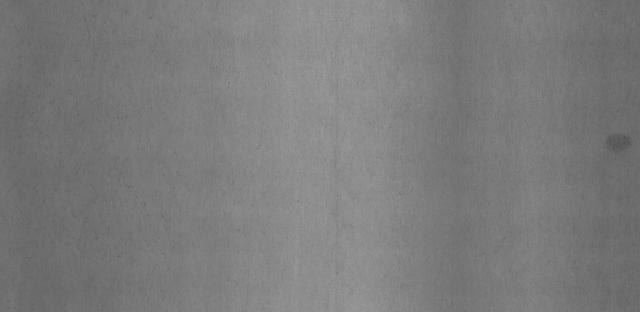oil_spot: (603, 129, 637, 156)
